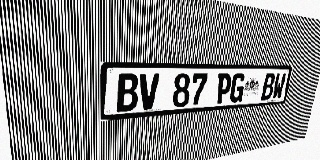7: (189, 73, 208, 106)
8: (172, 73, 192, 108)
B: (116, 74, 139, 112), (260, 73, 276, 100)
G: (229, 73, 246, 103)
P: (215, 73, 233, 104)
V: (138, 73, 160, 110)
W: (271, 73, 286, 99)
